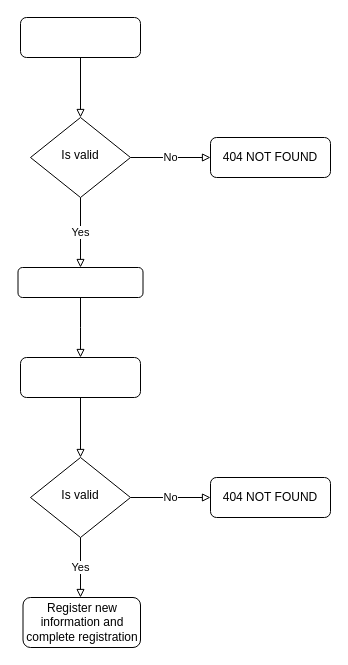
Image size: 348x665. Some labels were removed from this diagram. Here are the shapes that lost their labels. From the top down, the centre of each, then its label:
At point (80, 37): "Incoming POST request to /login.php".
At point (80, 282): "Register IP and ID.".
At point (80, 377): "Incoming POST request to /update.php".
